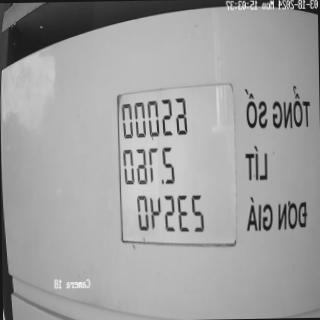screen: (115, 80, 238, 254)
